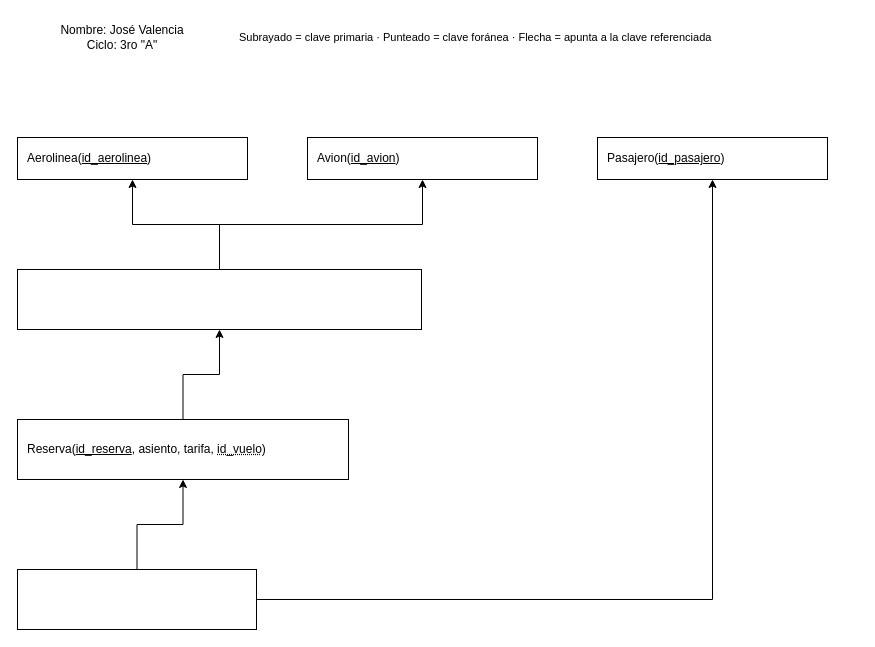
Some shapes in this 875 by 647 pixel diagram are drawn without their labels. The shapes that lost their labels are listed below. From the top down, each one's centre as x and y in pixels, then its label:
At [219,299]: "Vuelo( id , fecha, origen, destino, id_aerolinea , id_avion )".
At [136,599]: "Realiza( id_pasajero , id_reserva )".
